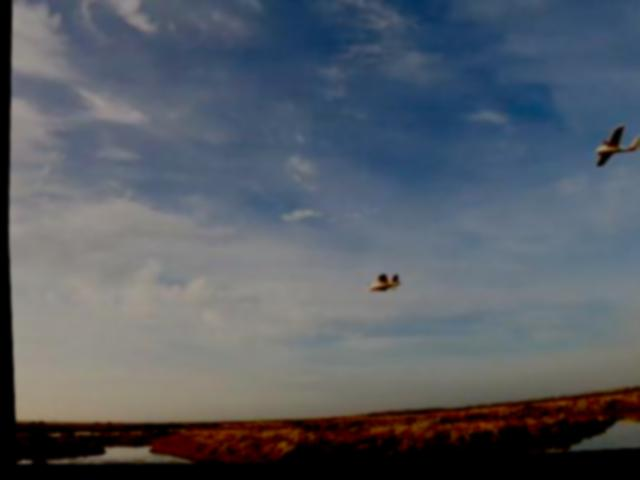uav: (590, 128, 640, 183), (357, 274, 401, 302)
